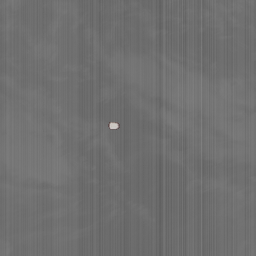Target: (107, 120, 122, 130)
